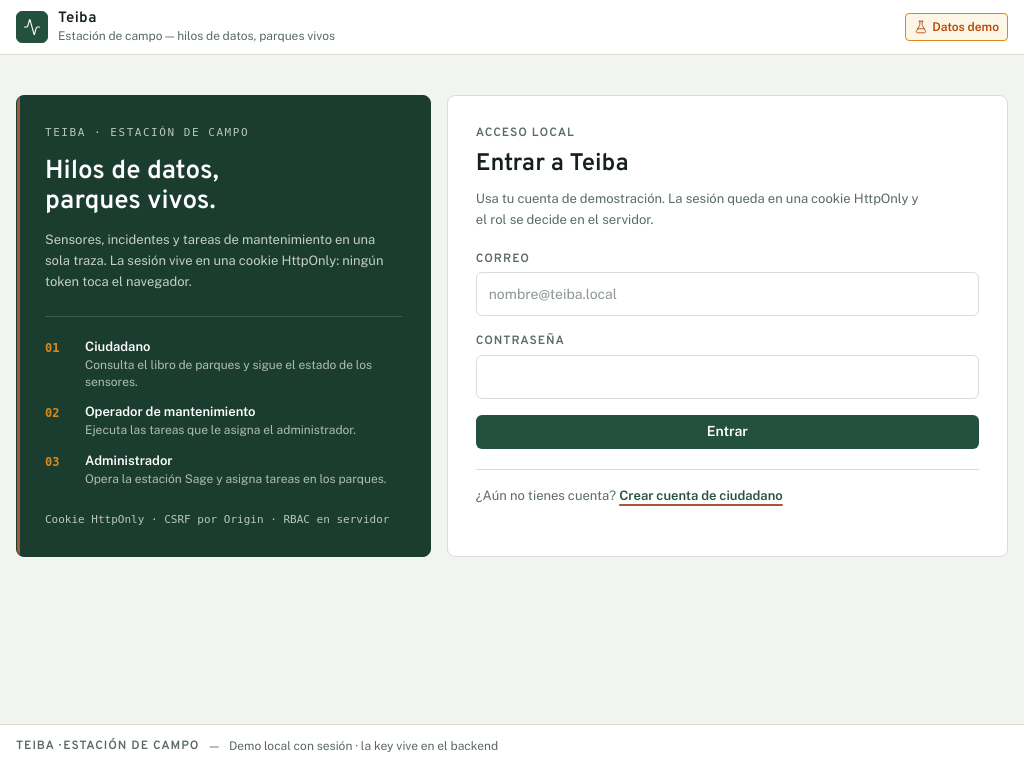
Test: LoginView › muestra error de credenciales y conserva el formulario
This screenshot has width=1024, height=768.
Check: the heading "Entrar a Teiba" is shown, box [476,149,629,179]
In the field labelled "Correo": (727, 294) [476,272,979,316], type "admin@teiba.local"
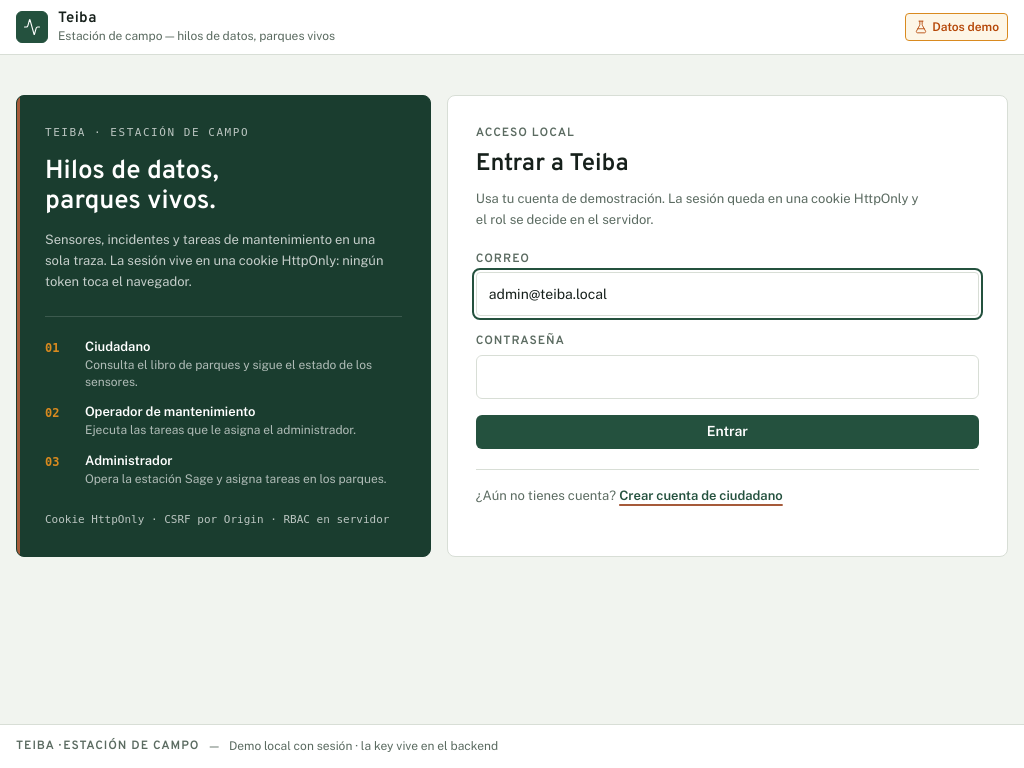
In the password field labelled "Contraseña": (727, 377) [476,355,979,399], type "admin12345678"
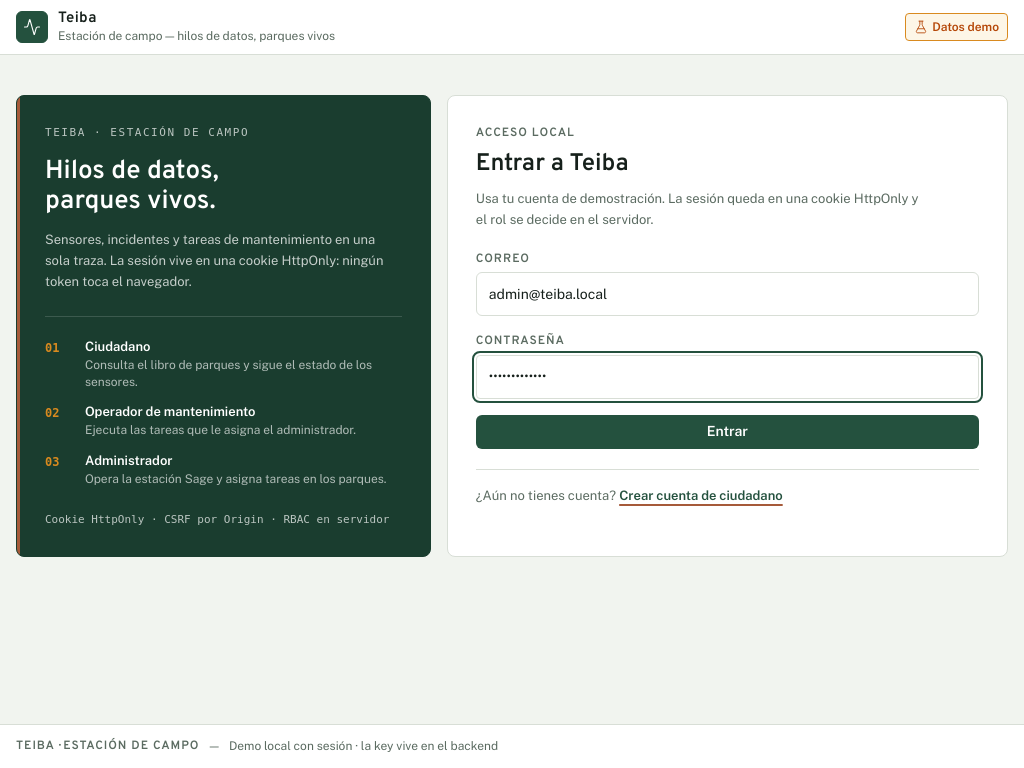
Click the button "Entrar": (727, 432) [476,415,979,449]
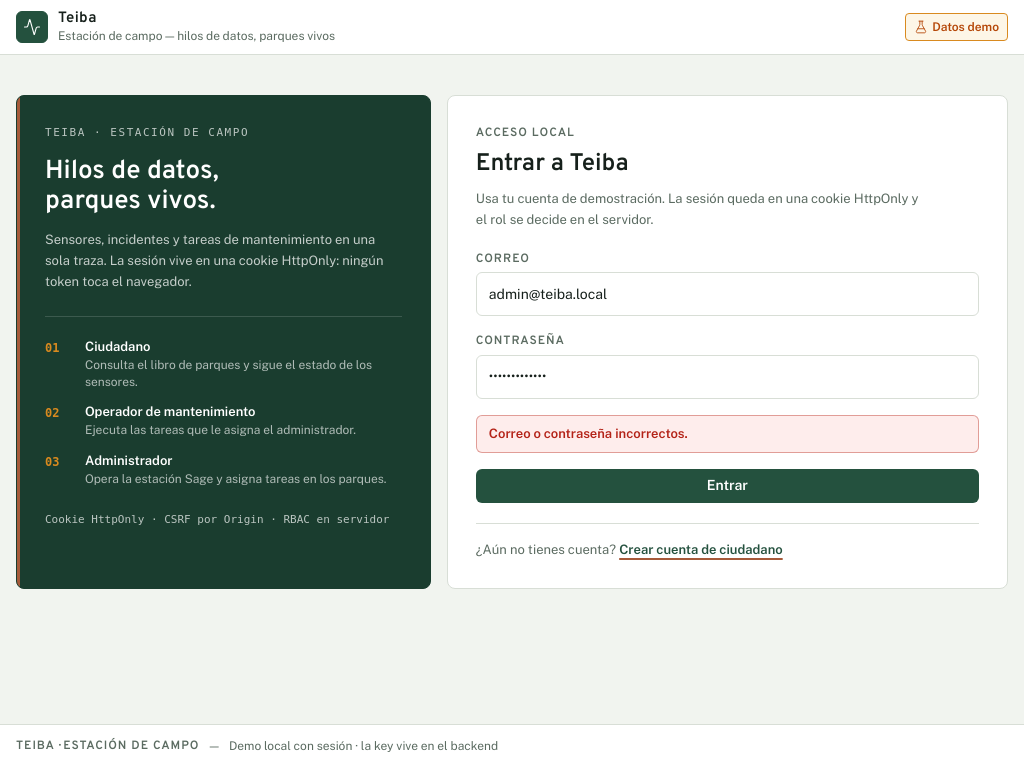
Check: the message shows "Correo o contraseña", box [489,426,688,441]
